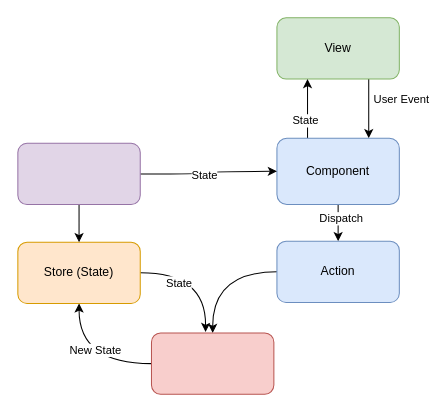
Image size: 446x412. Some labels were removed from this diagram. Here are the shapes that lost their labels. From the top down, the centre of each, then its label:
At (x=78, y=173): "Selector".
At (x=212, y=363): "Reducer".
